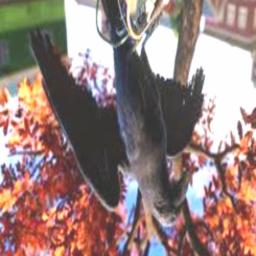Crow: (29, 0, 206, 226)
